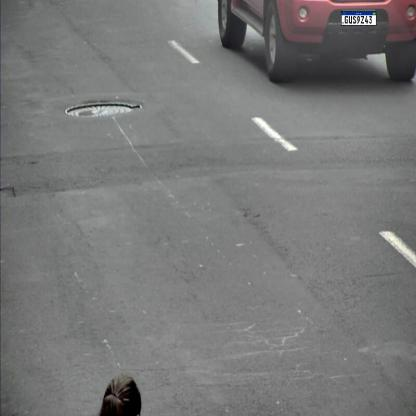PlacaM: (341, 11, 377, 26)
